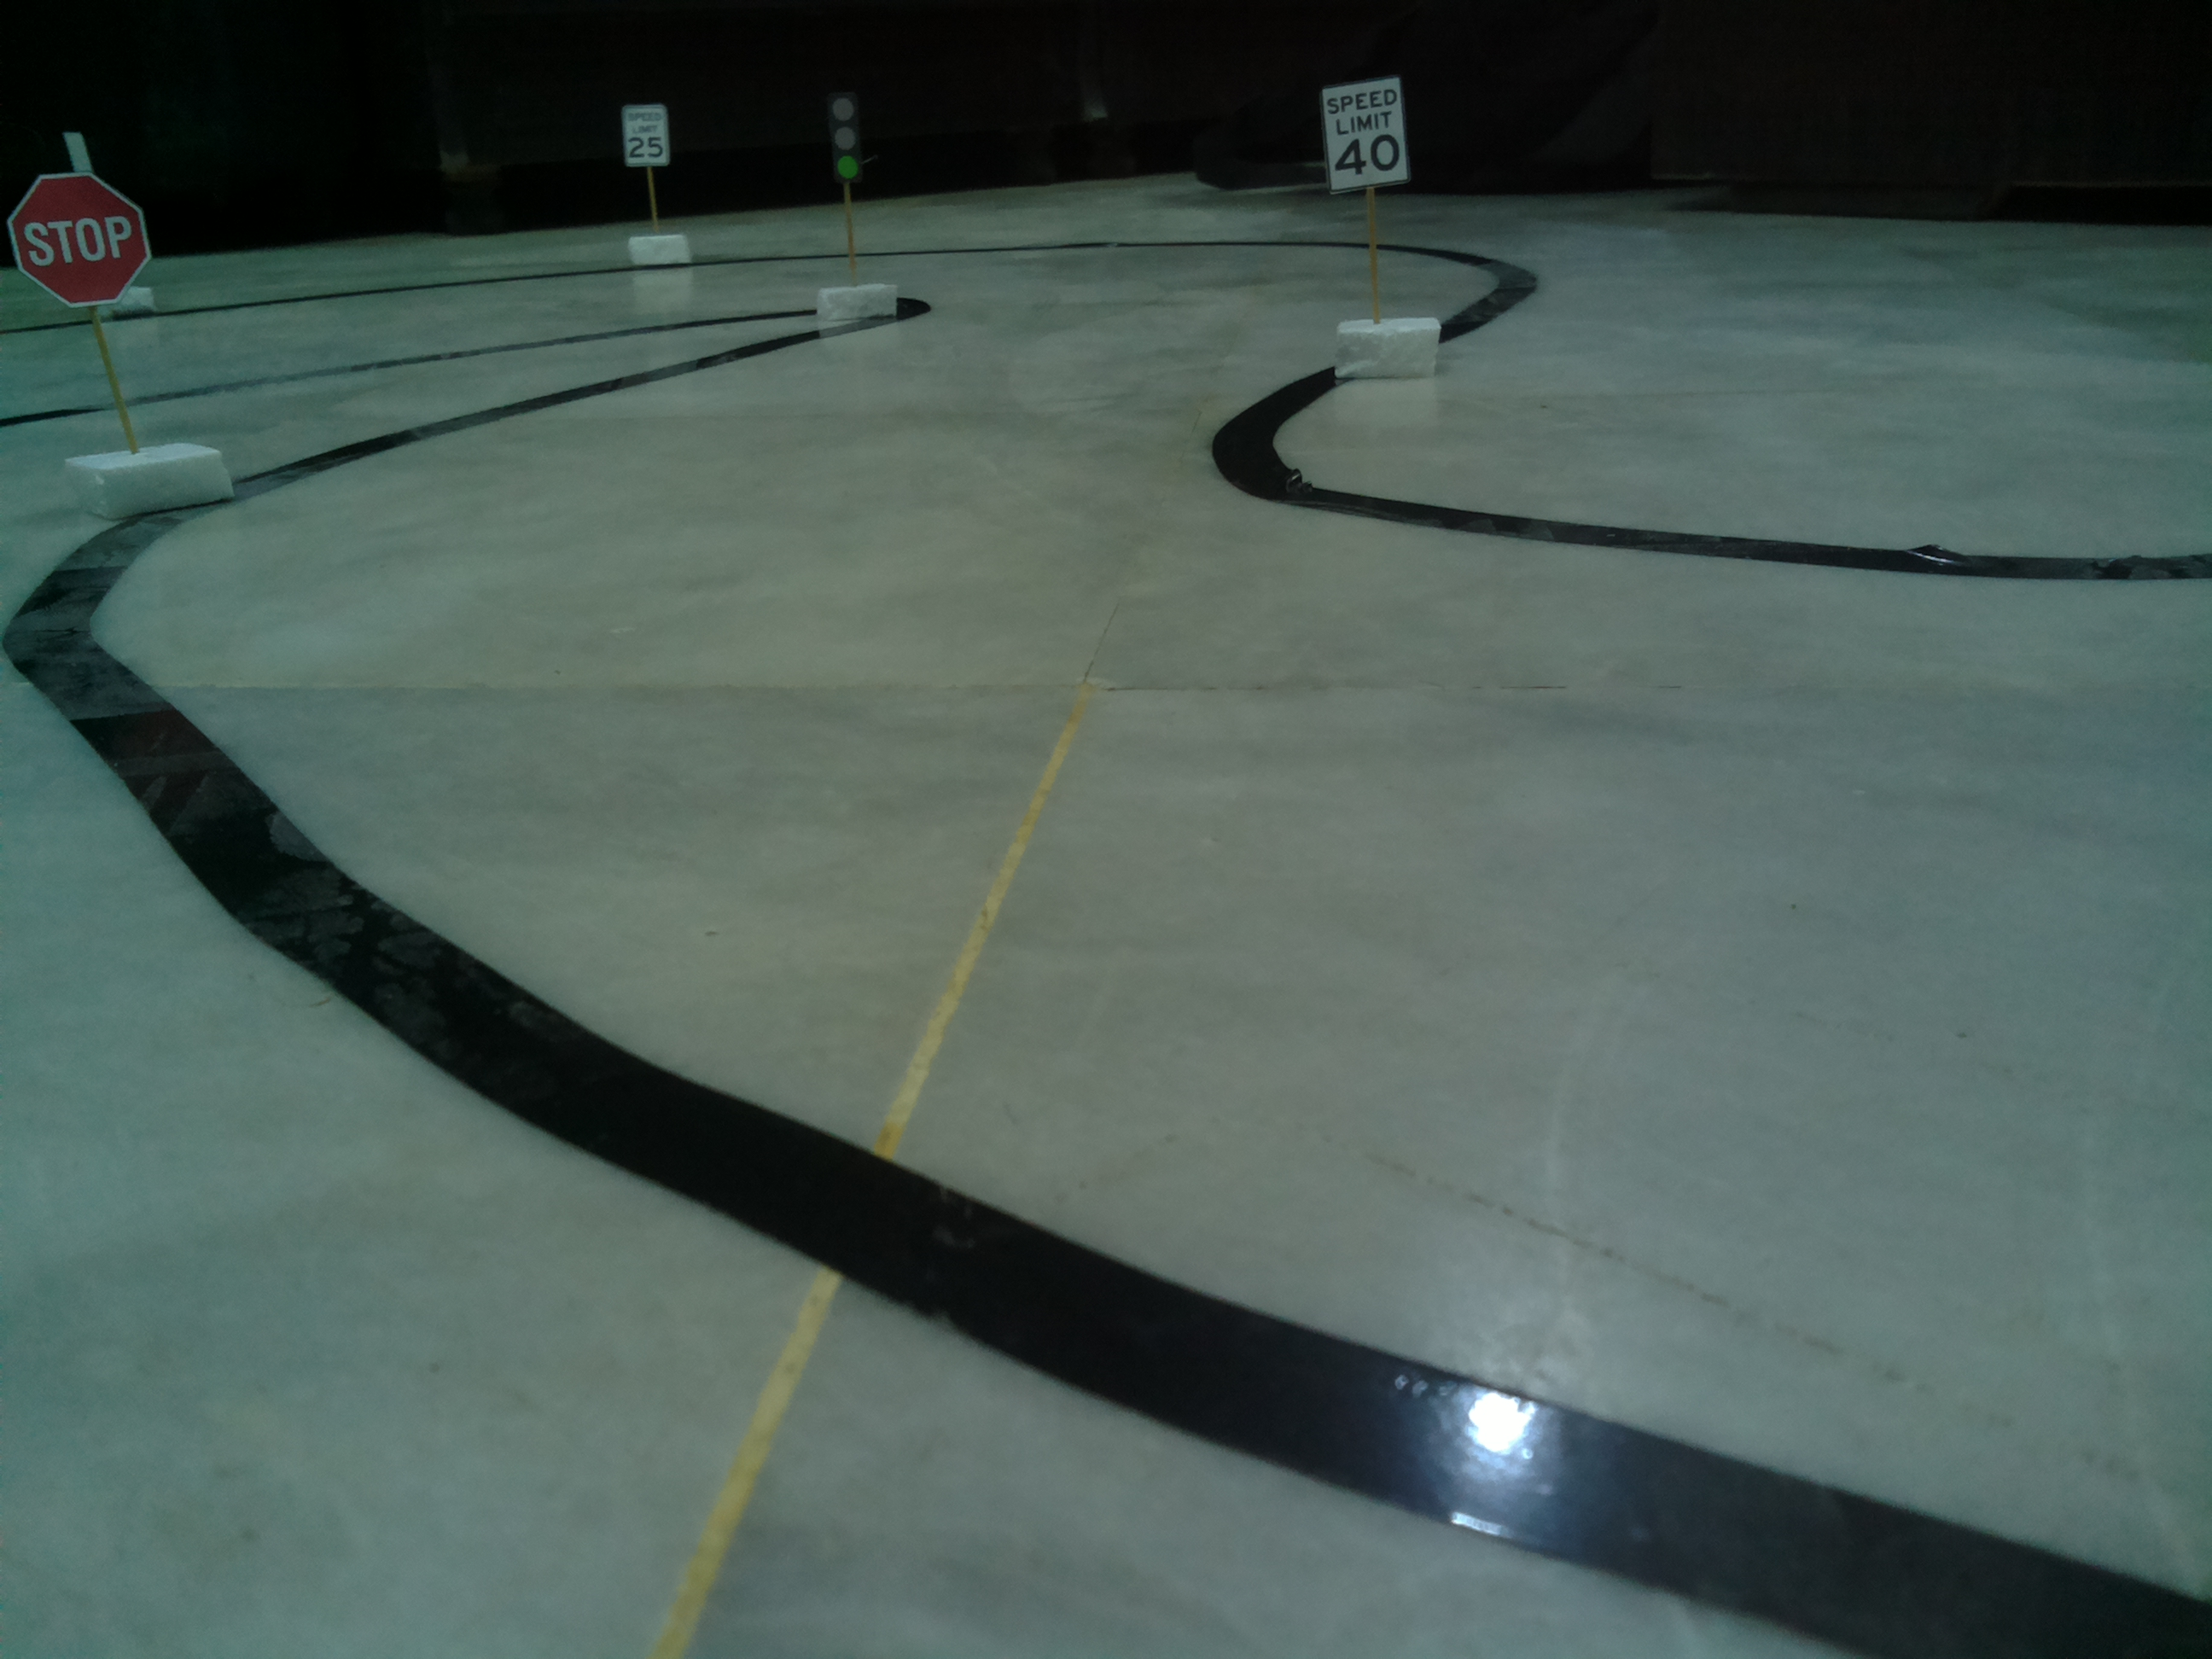Green traffic light: (815, 99, 878, 193)
Speed limit 25: (610, 103, 678, 171)
Speed limit 40: (1312, 75, 1420, 195)
Stop sign: (16, 176, 157, 308)
